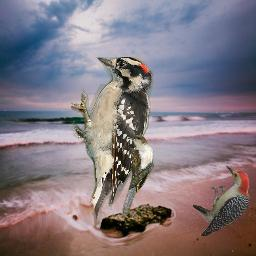Cuckoo: (122, 135, 154, 215)
Woodpecker: (71, 57, 155, 228), (193, 165, 252, 236)
